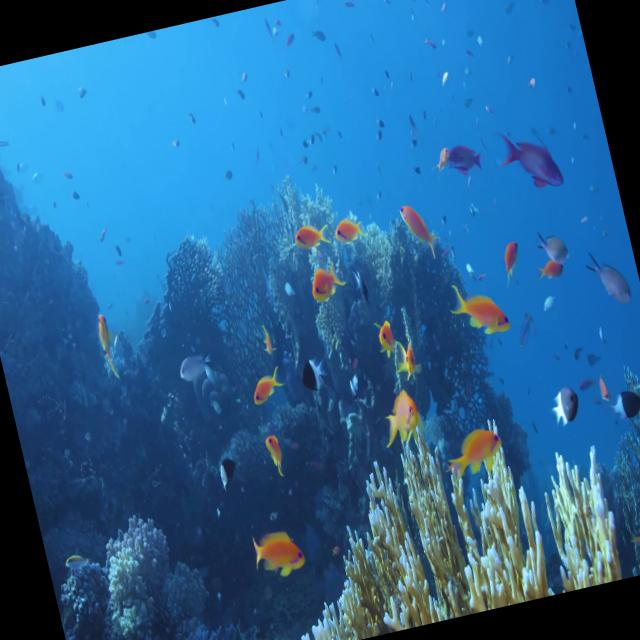fish: (496, 122, 566, 196), (242, 520, 312, 583), (448, 279, 513, 342), (444, 422, 510, 484), (374, 389, 424, 456), (430, 133, 482, 178), (544, 382, 586, 433), (248, 364, 284, 413), (298, 352, 335, 398), (308, 259, 342, 304)
